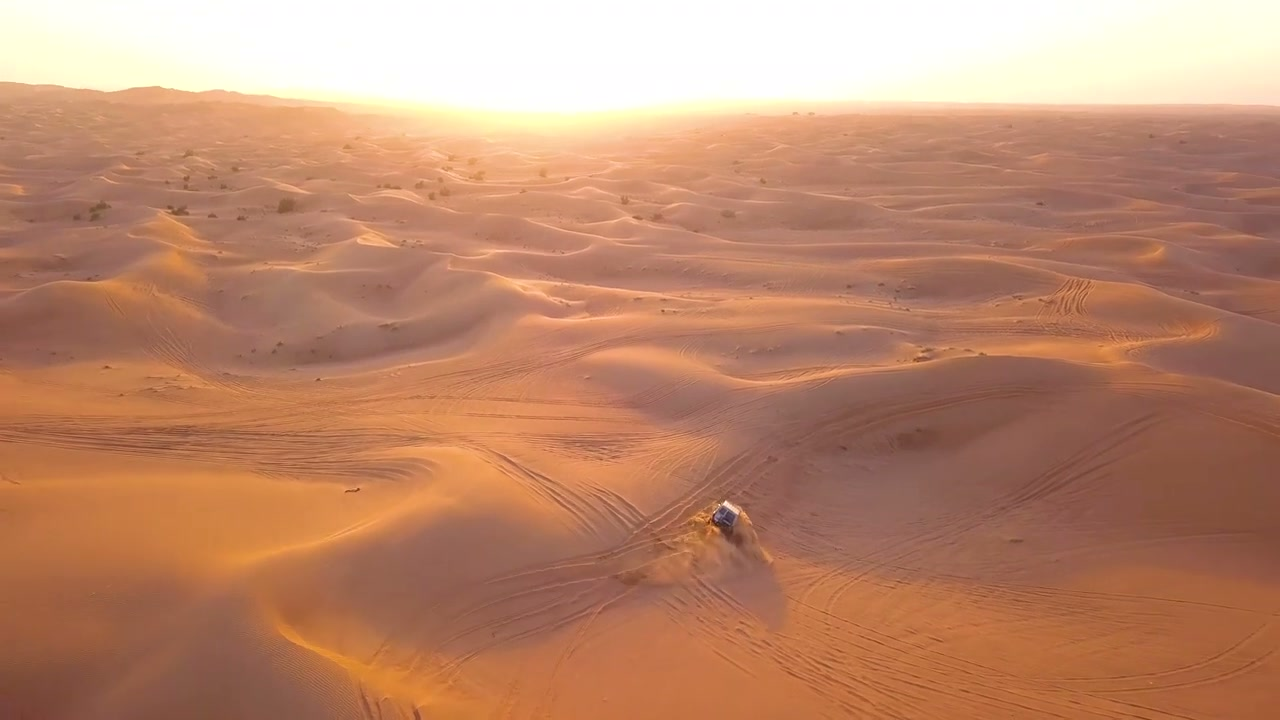vehicle_track: (424, 386, 1043, 670), (407, 387, 1033, 662), (485, 386, 1041, 583), (801, 413, 1159, 609), (664, 577, 1075, 718), (427, 323, 792, 401), (0, 417, 419, 478), (1052, 618, 1279, 693), (470, 444, 641, 534), (138, 309, 279, 402), (1109, 381, 1279, 439), (1036, 277, 1092, 328)
